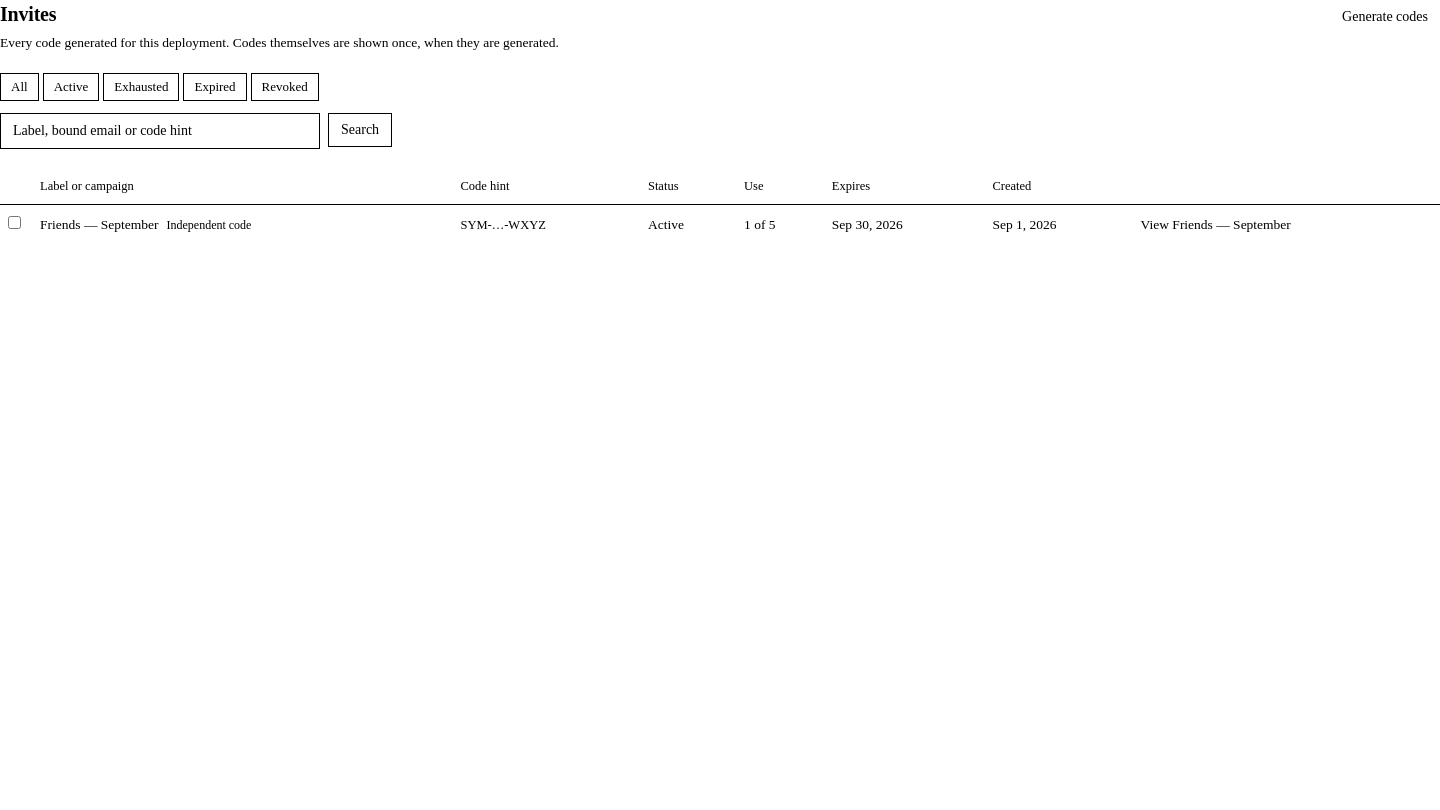
it: the invite inventory (admin_invites.md) › previews a batch revocation before it runs and explains what it does not do
This screenshot has width=1440, height=810.
Click the checkbox named "Select invite SYM-…-WXYZ" at coordinates (14, 222), box [8, 216, 21, 228]
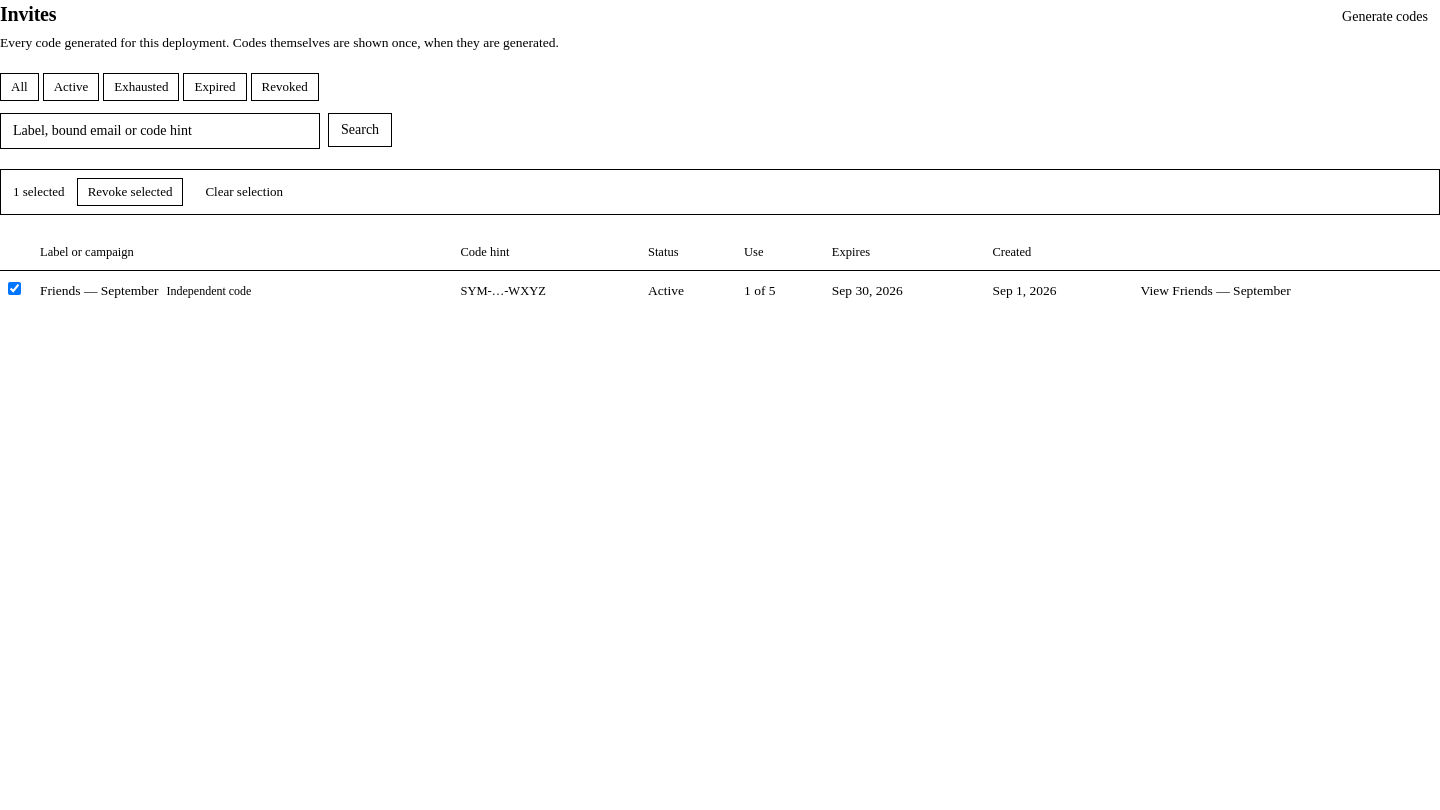
Click the button "Revoke selected" at coordinates (130, 192), box [77, 178, 183, 206]
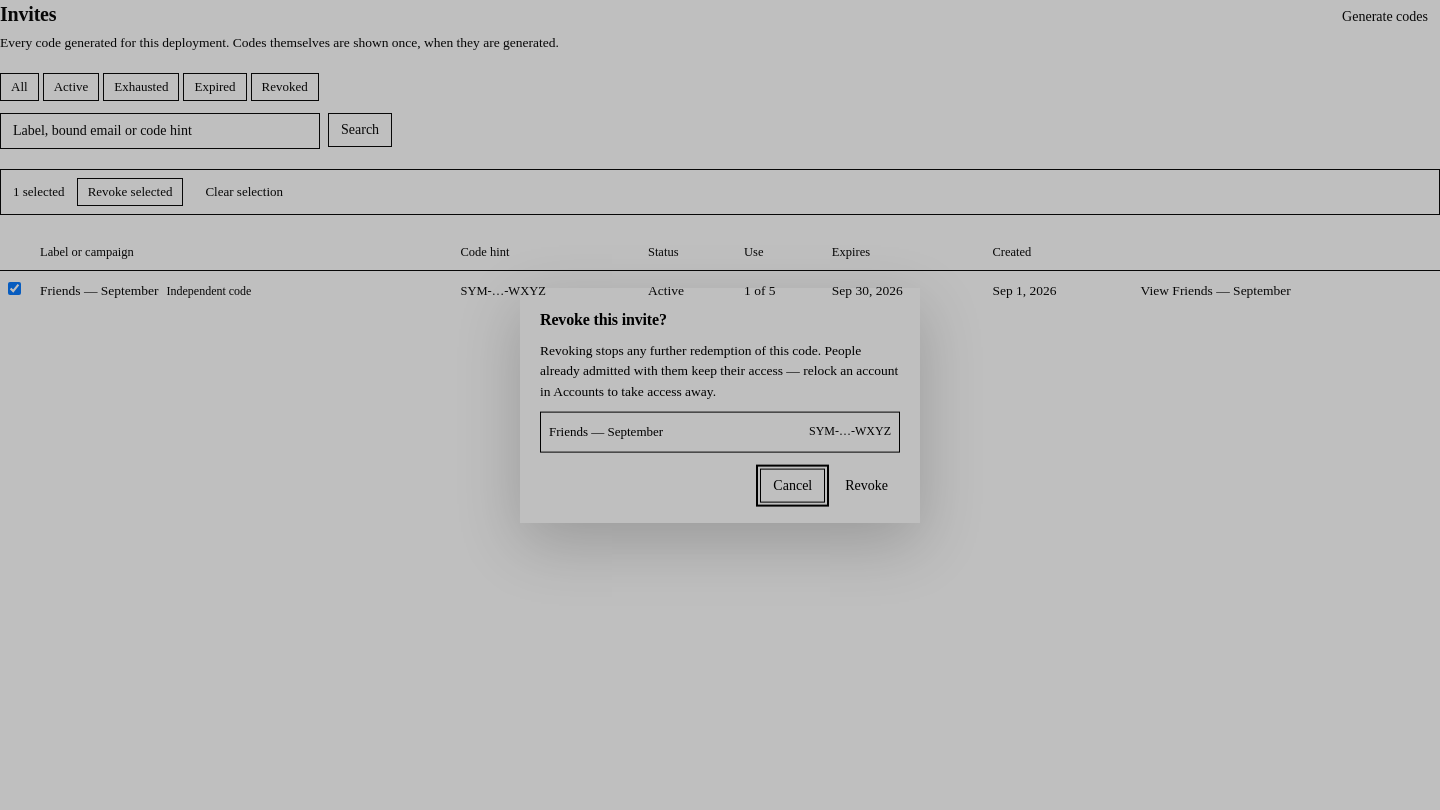
Check: the dialog shows "Friends — September", box [549, 424, 663, 438]
Check: the dialog shows "People already admitted with them keep their access", box [540, 343, 898, 398]
Click the button "Revoke" at coordinates (867, 485), box [833, 468, 900, 502]
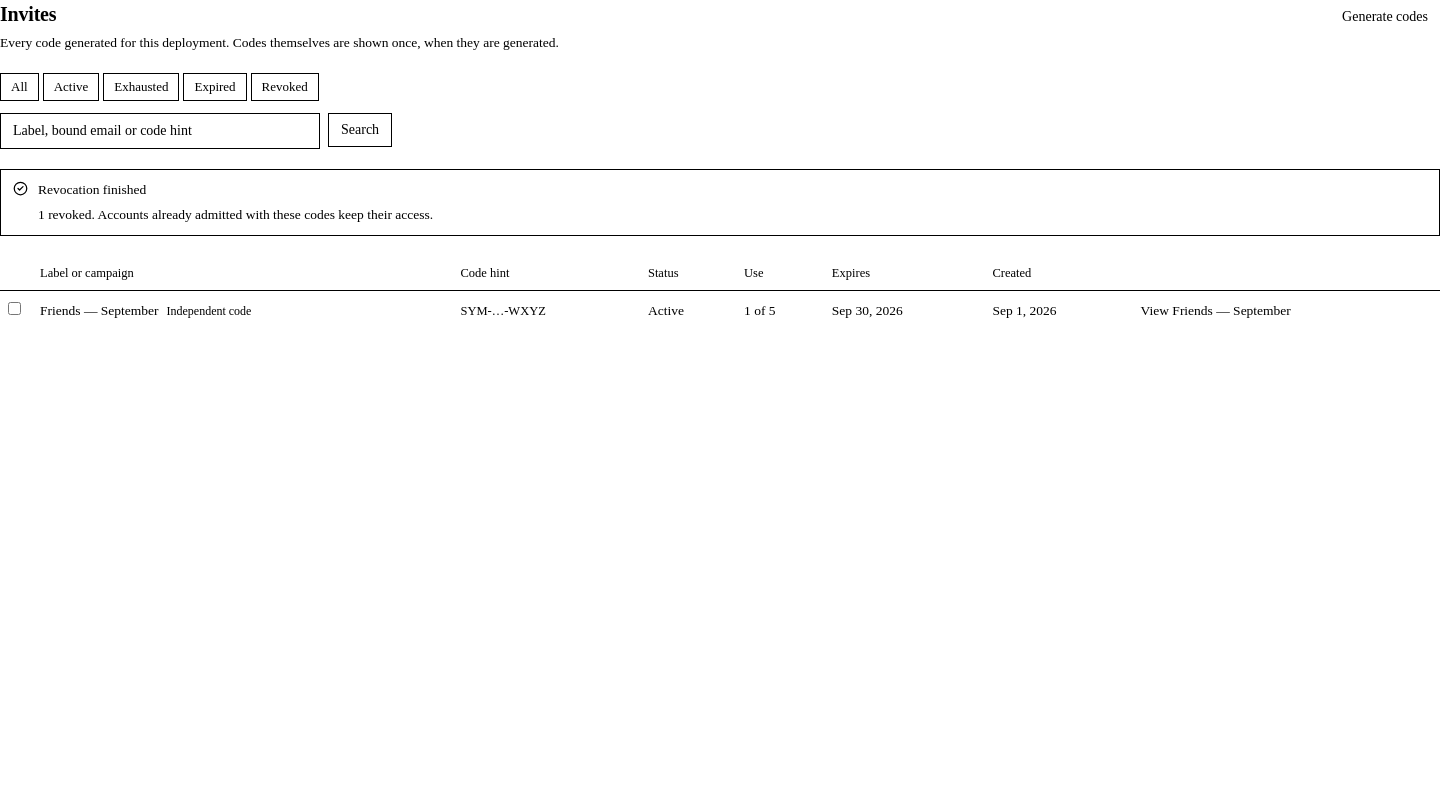
Check: the text "Revocation finished" is shown, box [38, 182, 146, 197]
